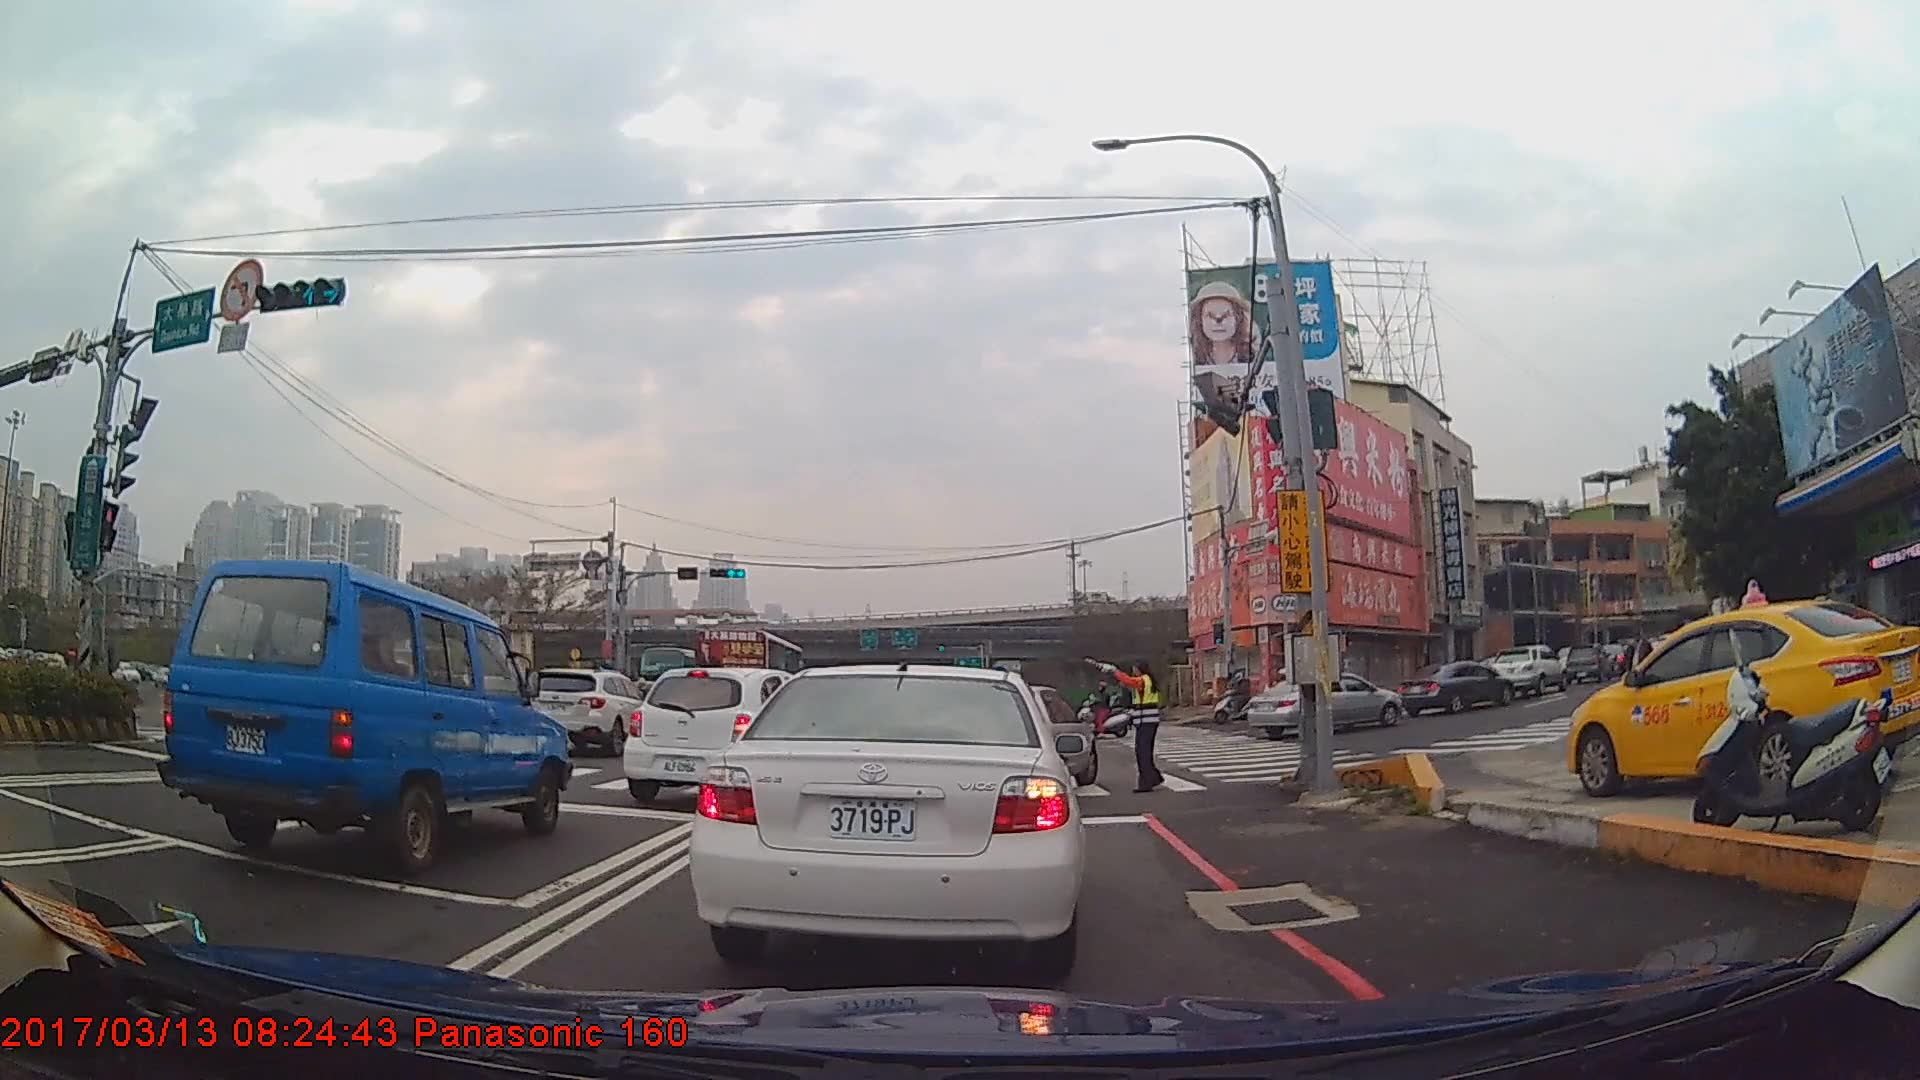pedestrian: (1089, 655, 1164, 792), (1618, 625, 1658, 720)
rider: (1071, 682, 1131, 739), (1212, 669, 1257, 723)
vehicle: (136, 551, 564, 875), (690, 660, 1085, 969), (1566, 599, 1920, 797), (623, 666, 834, 807), (522, 666, 655, 754), (1246, 670, 1403, 739), (694, 625, 806, 716), (1397, 659, 1511, 716), (1489, 644, 1568, 695), (1562, 641, 1611, 687)
